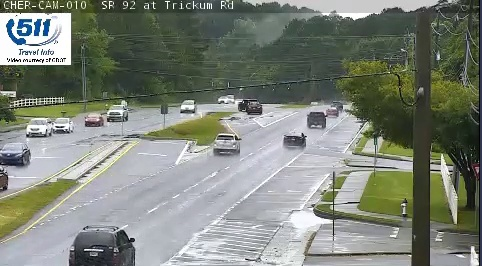car: (70, 227, 135, 266), (214, 133, 239, 150), (284, 132, 306, 146), (307, 112, 326, 127)
